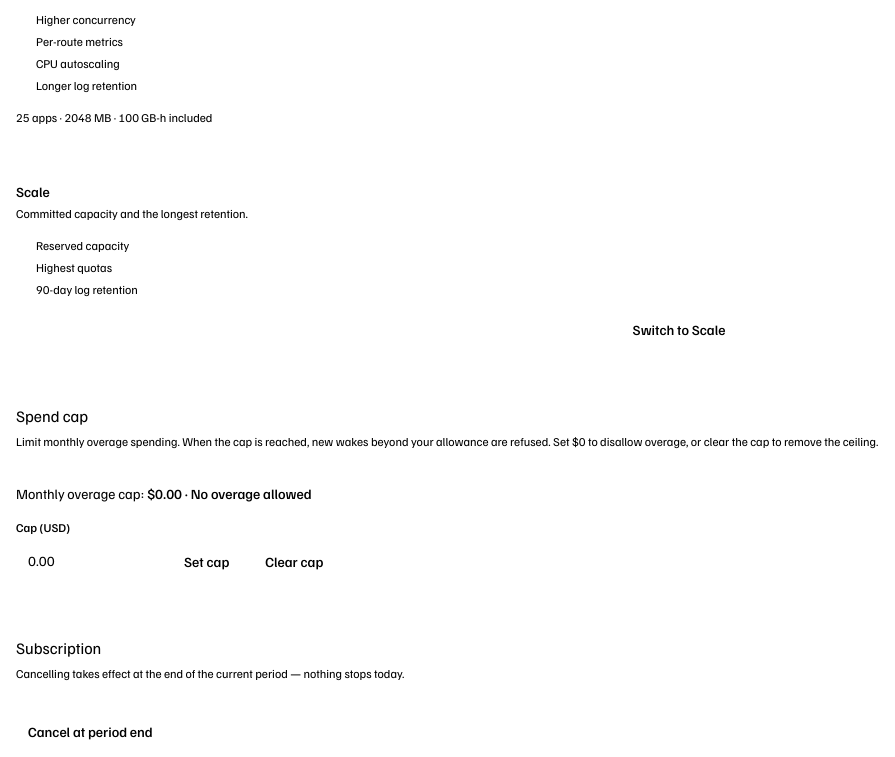
Test case: refreshes a pristine cached editor but preserves an unsaved draft
(page scrolled)
Expected: the text "$0.00 · No overage allowed" is shown, [147,485,312,502]
Step 1. Replace the text in the number field labelled "Cap (USD)" with "5.50" → (88, 560), box [16,542,160,578]
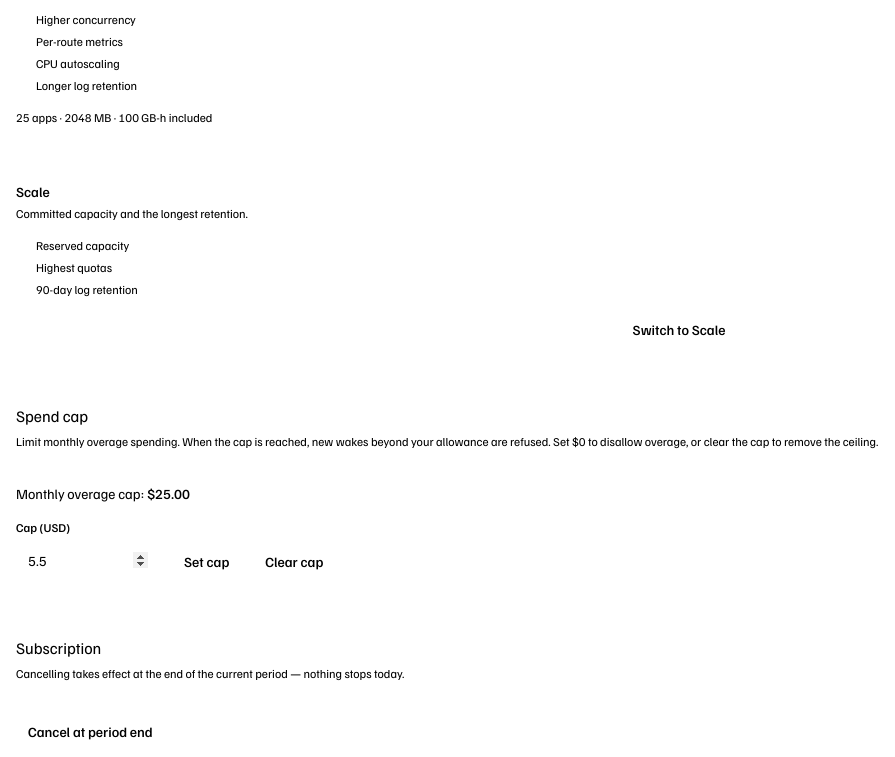
Now the text "$25.00" is shown, box [147,485,190,502]
Now the number field labelled "Cap (USD)" holds "5.5", box [16,542,160,578]
